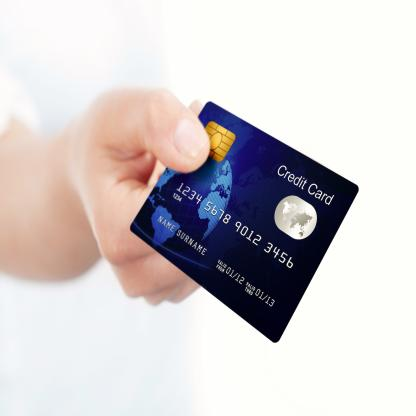tarjeta: (129, 99, 360, 344)
